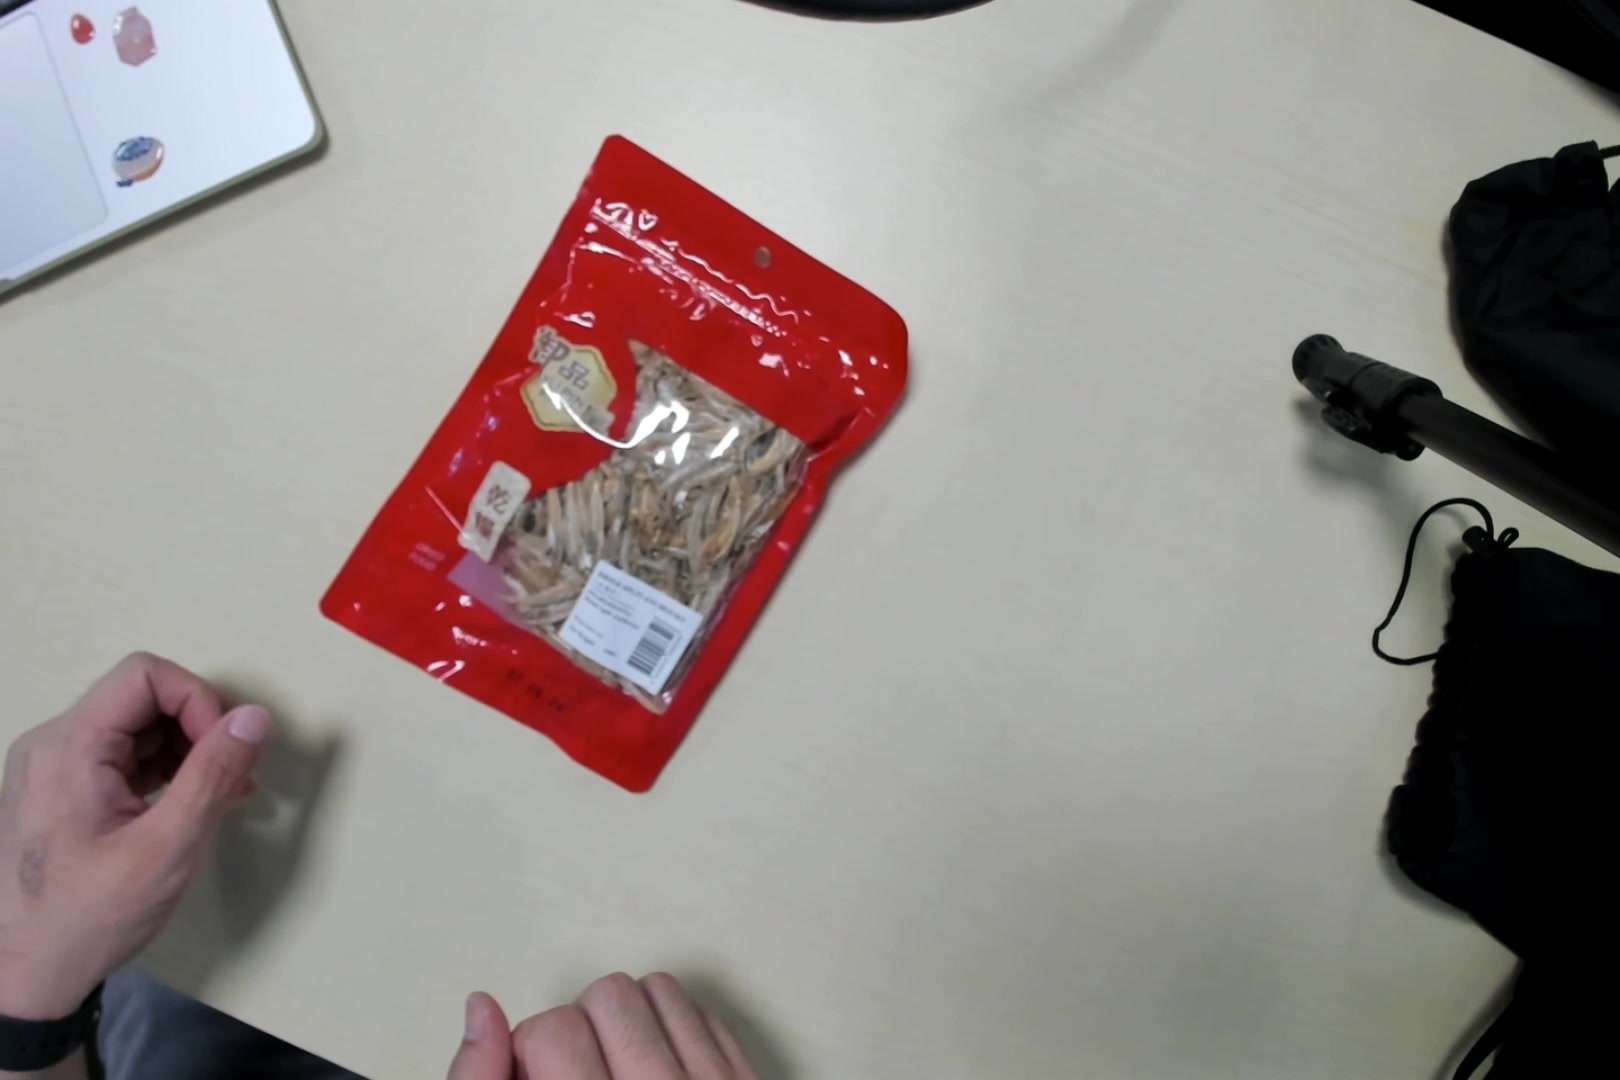DriedMeatSeafood_100-199g_NonHalal_NonHealthy: (356, 149, 916, 788)
